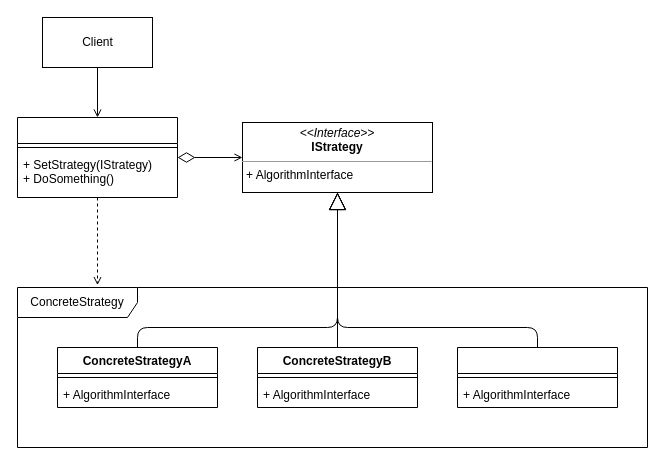
This 665x465 diagram has some shape labels left out. The shapes that lost their labels are listed below. From the top down, each one's box as (x1, y1, x2, y2) in pixels, then its label:
(16, 116, 178, 198): Context
(456, 346, 618, 408): ConcreteStrategyC
